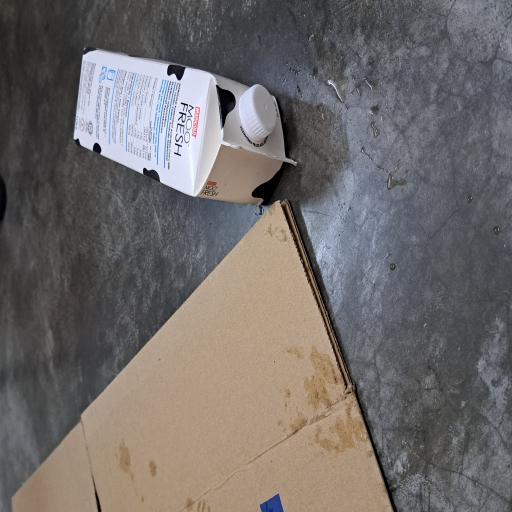cardboard: (0, 9, 235, 512)
drink carton: (232, 96, 348, 398)
plastic bottle cap: (277, 315, 320, 371)
